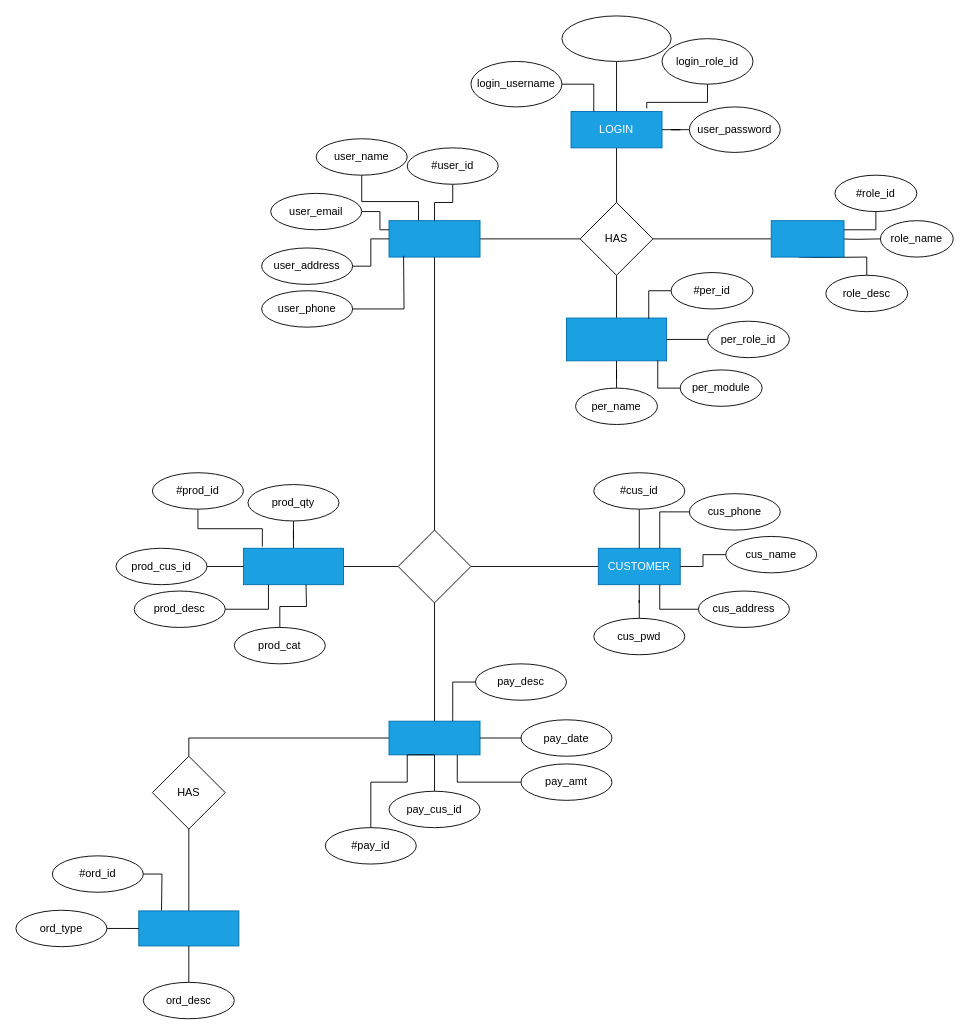
The diagram is 969 pixels wide and 1035 high, and some of its shapes have lost their labels. The box of each missing label's shape, as (x1, y1, x2, y2) in pixels:
#login_id: (561, 15, 671, 61)
MANAGE: (397, 529, 471, 603)
ORDER: (138, 910, 239, 946)
PAYMENT: (388, 720, 480, 755)
PERMISSION: (566, 317, 667, 361)
PRODUCT: (243, 547, 344, 585)
ROLES: (770, 220, 844, 257)
USER: (388, 220, 480, 257)
